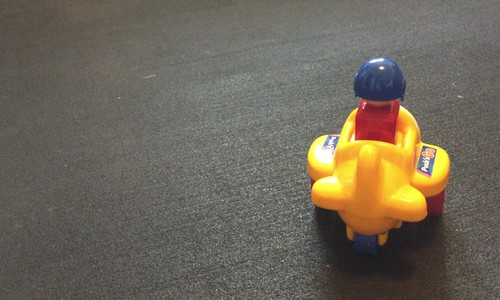toy: (309, 56, 461, 253)
